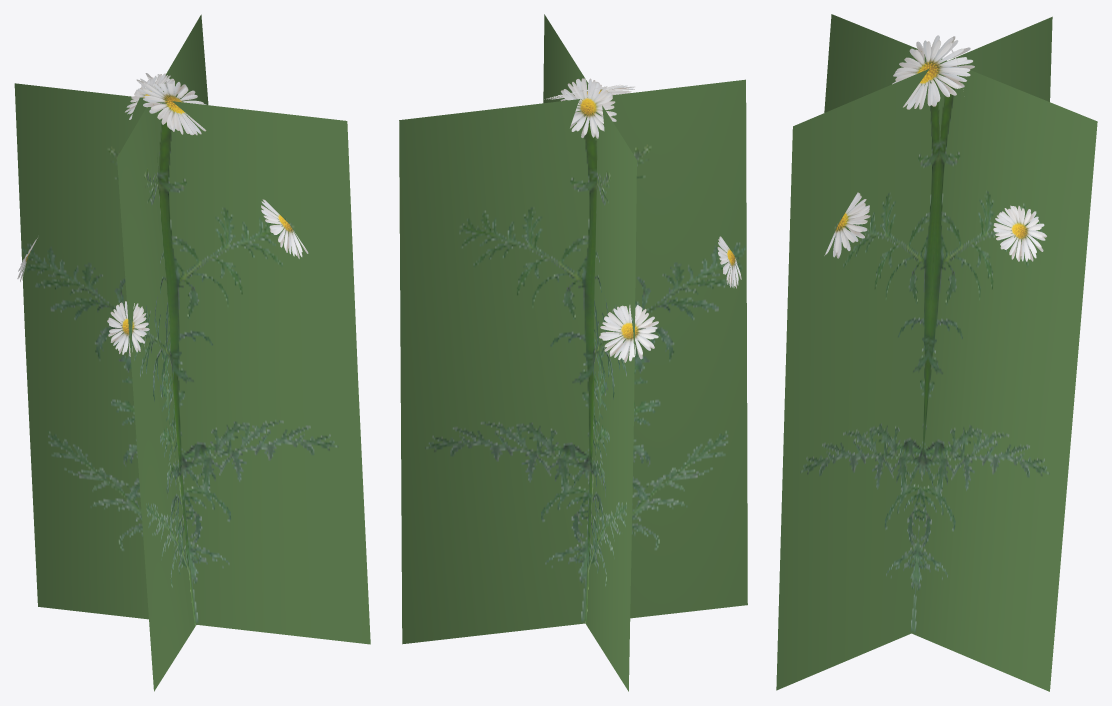
The model's file is margarita_1.obj.
3 views of the same model, side by side, from view 1: azimuth 30°, elevation 25°; view 2: azimuth 150°, elevation 25°; view 3: azimuth 270°, elevation 25° (orthographic). The views are drawn at different scales.
Parts seen in each view (by area): view 1: margarita_1; view 2: margarita_1; view 3: margarita_1.
Part boxes in pixels (<box>): margarita_1: <box>14,14,370,691</box>; margarita_1: <box>399,14,747,691</box>; margarita_1: <box>776,14,1097,691</box>.
Size of the model in its own units: 0.21 by 0.45 by 0.2244.
